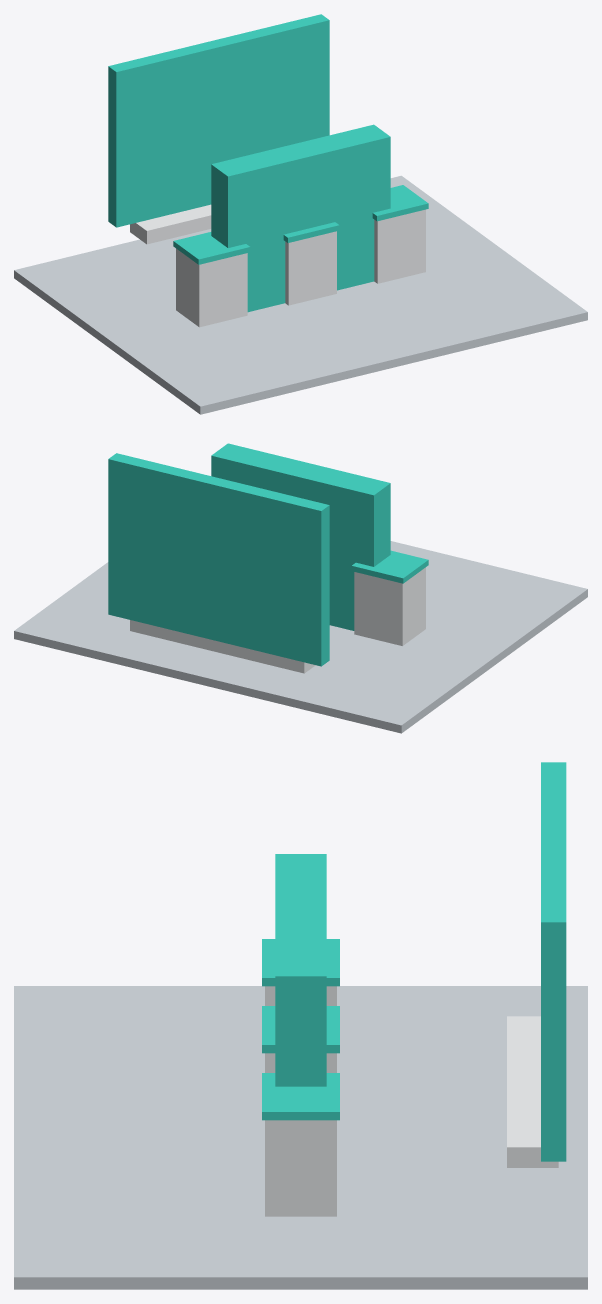
The picture shows the model from 3 angles, top to bottom: view 1: azimuth 30°, elevation 25°; view 2: azimuth 150°, elevation 25°; view 3: azimuth 270°, elevation 25°; orthographic projection. The views are drawn at different scales.
Visible parts, largest first — view 1: Exhibition Booth Concept; view 2: Exhibition Booth Concept; view 3: Exhibition Booth Concept.
Part boxes in pixels (<box>): Exhibition Booth Concept: <box>14,14,587,414</box>; Exhibition Booth Concept: <box>14,443,587,733</box>; Exhibition Booth Concept: <box>14,762,587,1289</box>.
Size of the model in its own units: 6 by 2.9 by 5.
